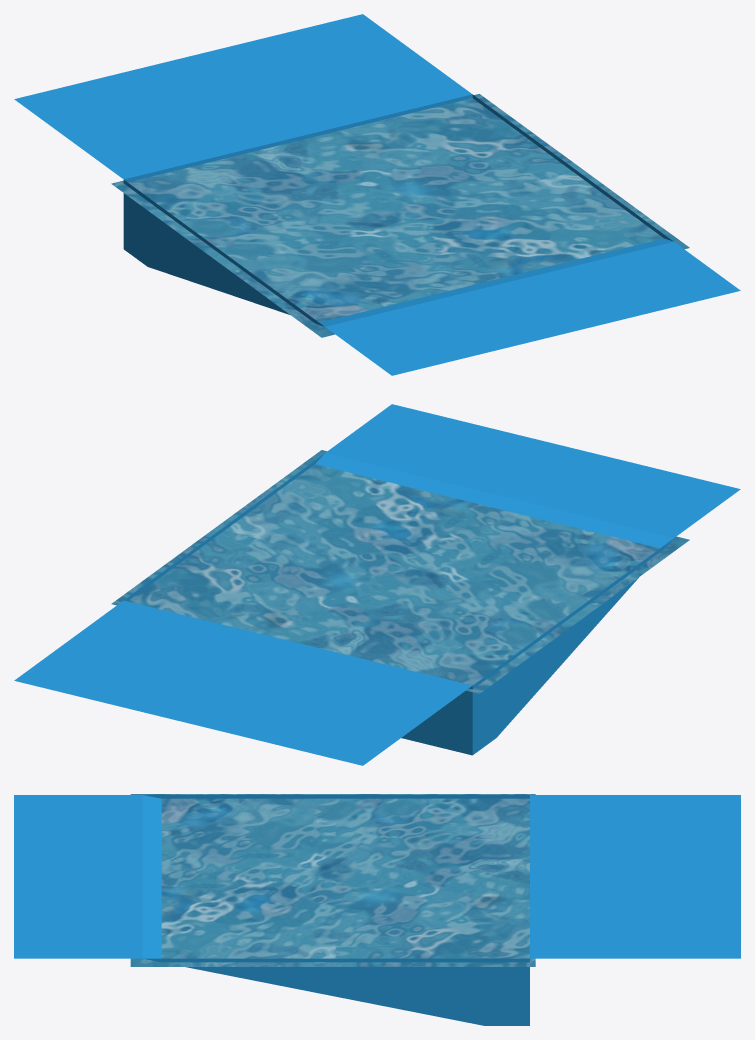
The model's file is Water_Row.FBX.
3 views of the same model, one above another, from view 1: azimuth 30°, elevation 25°; view 2: azimuth 150°, elevation 25°; view 3: azimuth 270°, elevation 25° (orthographic). The views are drawn at different scales.
Parts seen in each view (by area): view 1: Water_Row; view 2: Water_Row; view 3: Water_Row.
Part boxes in pixels (x1,y1,x2,y2): Water_Row: (14, 14, 740, 375); Water_Row: (14, 404, 740, 765); Water_Row: (14, 794, 740, 1025).
Size of the model in its own units: 38.65 by 7 by 68.67.
